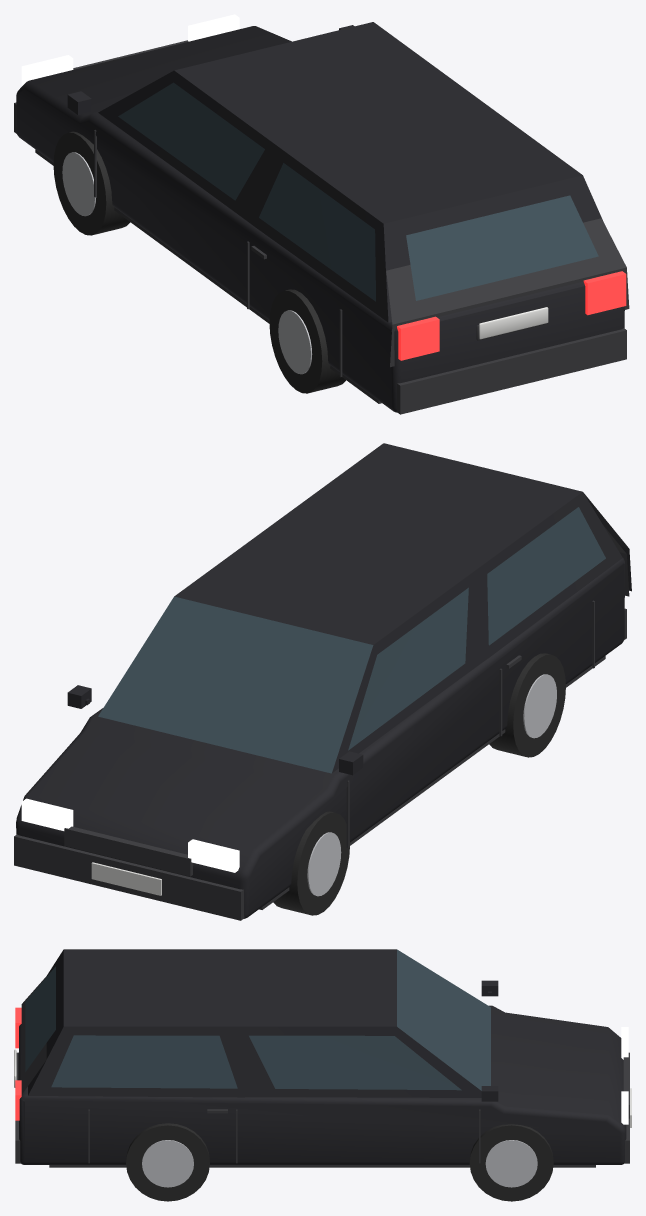
The model's file is passat.glb.
3 renders of one model, top to bottom at view 1: azimuth 30°, elevation 25°; view 2: azimuth 150°, elevation 25°; view 3: azimuth 270°, elevation 25°, orthographic. The views are drawn at different scales.
Parts seen in each view (by area): view 1: Passat_Karosserie, Passat_Heckklappe; view 2: Passat_Karosserie, Passat_Heckklappe; view 3: Passat_Karosserie, Passat_Heckklappe.
Part boxes in pixels (x1,y1,x2,y2): Passat_Karosserie: (14,14,626,414); Passat_Heckklappe: (386,195,629,367); Passat_Karosserie: (14,443,626,920); Passat_Heckklappe: (584,493,631,596); Passat_Karosserie: (15,949,631,1201); Passat_Heckklappe: (14,966,55,1094).
Bounding box in the file's own units: 2.06 × 1.44 × 4.86.
